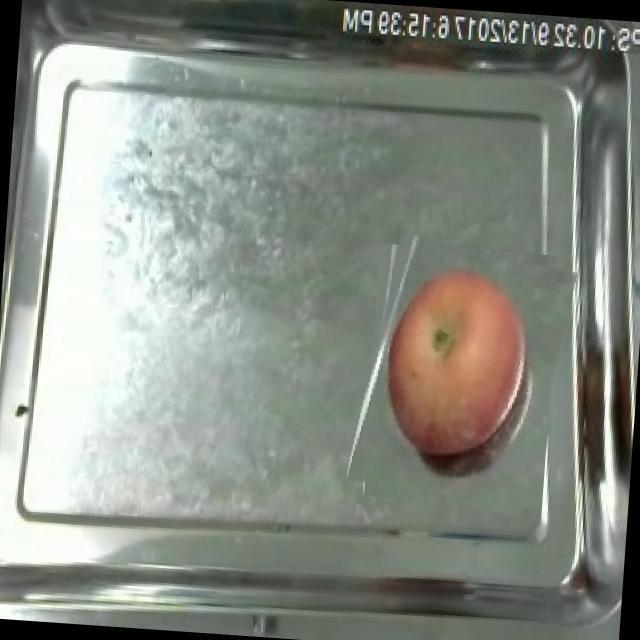apple: (387, 269, 526, 458)
